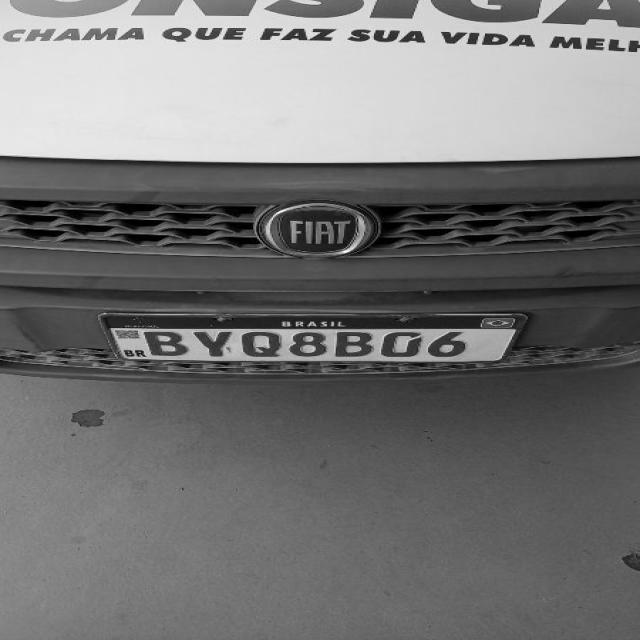placa_mercosul: (100, 313, 527, 364)
